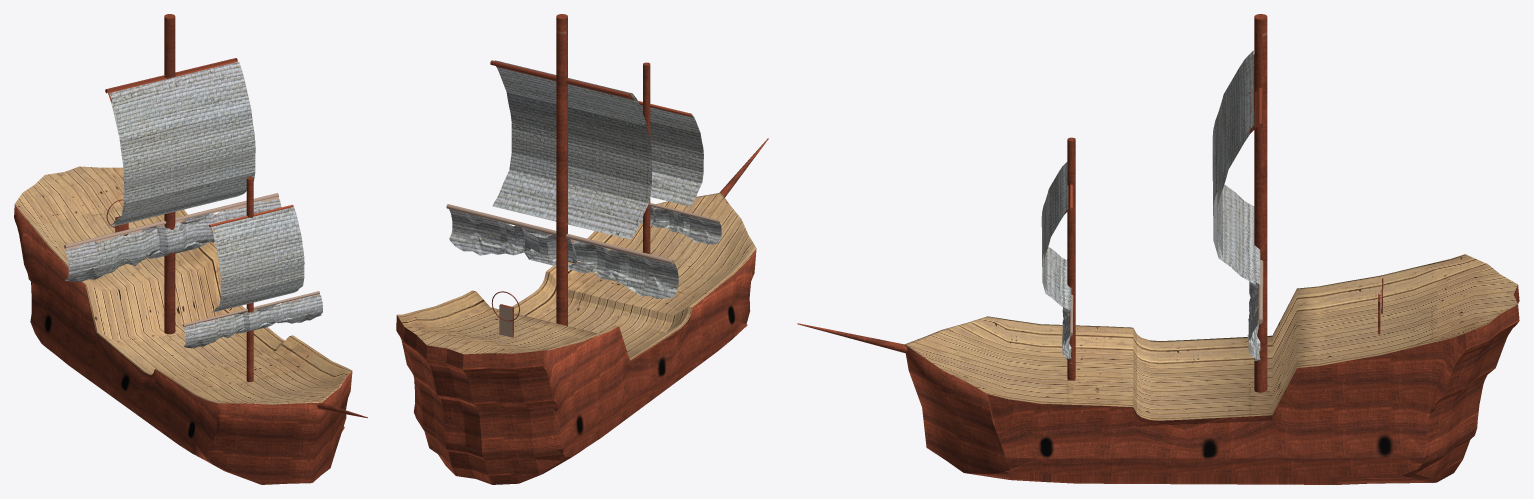
The model's file is warship.obj.
The picture shows the model from 3 angles, left to right: view 1: azimuth 30°, elevation 25°; view 2: azimuth 150°, elevation 25°; view 3: azimuth 270°, elevation 25°; orthographic projection. The views are drawn at different scales.
Visible parts, largest first — view 1: Cube; view 2: Cube; view 3: Cube.
Part boxes in pixels (bbox=[...]): Cube: bbox=[14, 14, 367, 484]; Cube: bbox=[396, 14, 768, 484]; Cube: bbox=[797, 14, 1519, 484].
Size of the model in its own units: 5.09 by 8.65 by 12.64.
